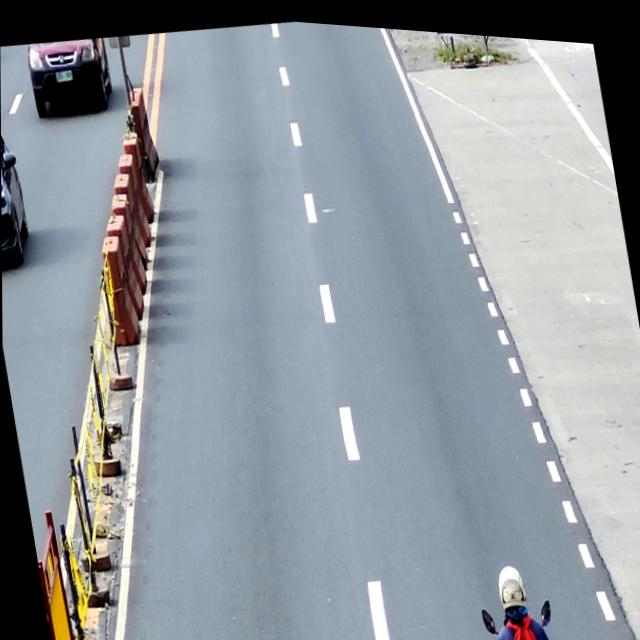Car: (24, 31, 117, 124), (1, 112, 36, 270)
License-Plate: (54, 67, 74, 83)
